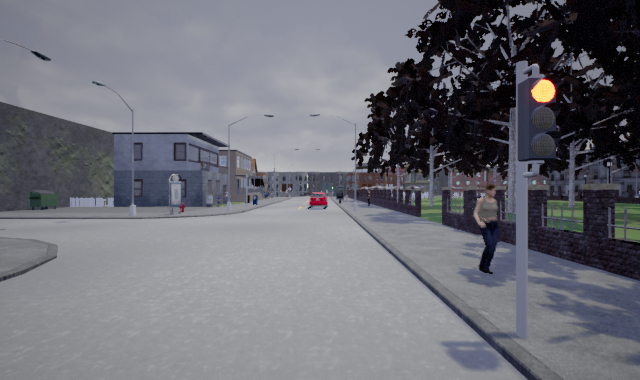pedestrian: (463, 178, 514, 276)
traffic_light: (517, 76, 557, 162)
vehicle: (307, 190, 328, 208)
